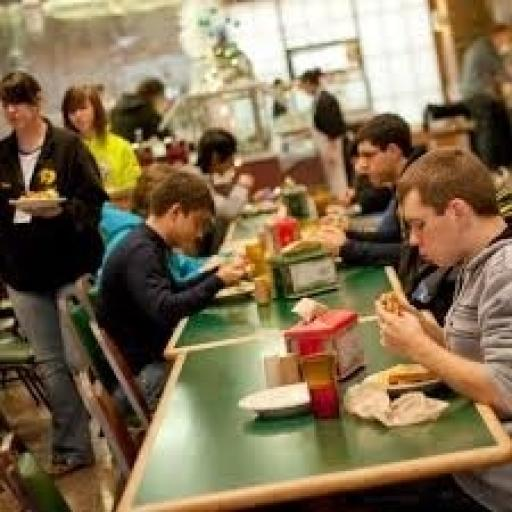eating: (371, 143, 510, 510), (0, 68, 112, 476)
